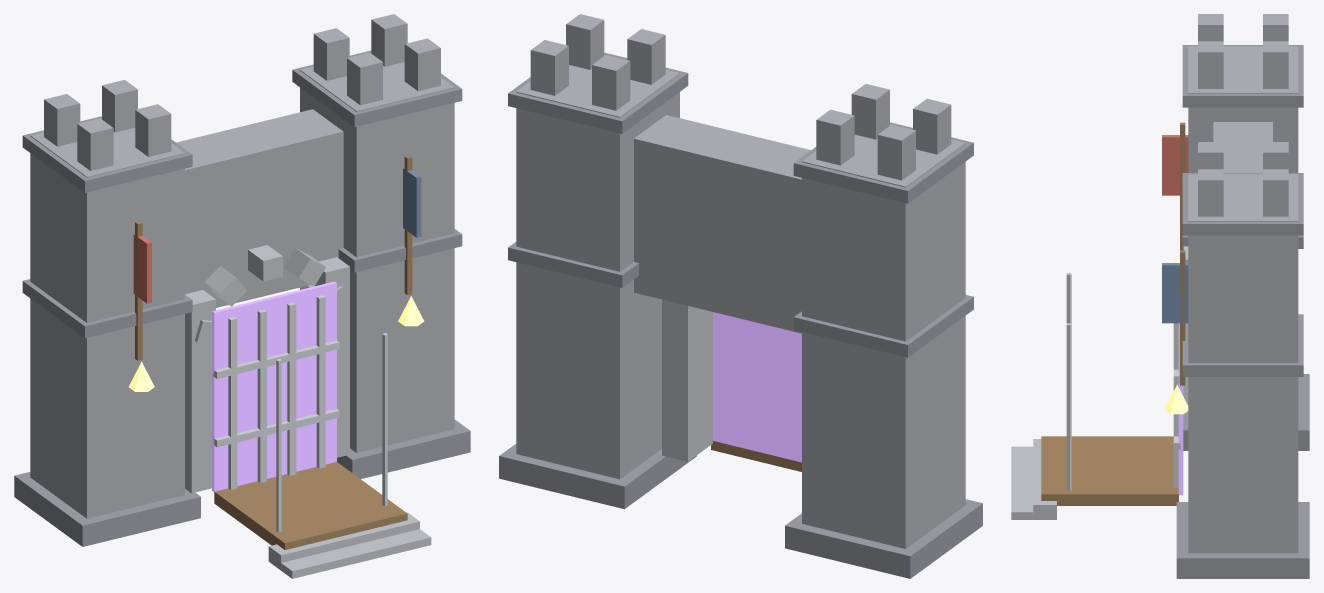
Rendered from village_gate.glb.
3 renders of one model, left to right at view 1: azimuth 30°, elevation 25°; view 2: azimuth 150°, elevation 25°; view 3: azimuth 270°, elevation 25°, orthographic. The views are drawn at different scales.
Parts seen in each view (by area): view 1: tower, tower.001, gate_wall, gate_dark, drawbridge, tower_foot, arch_pier.002, tower_foot.001, tower_band.005, tower_band.007, step.008, arch_pier.003 (+26 smaller); view 2: tower, tower.001, gate_wall, gate_dark, arch_pier.003, tower_foot, tower_foot.001, tower_band.005, tower_band.007, tower_band.004, tower_band.006, merlon.020 (+8 smaller); view 3: tower.001, drawbridge, tower, tower_foot.001, tower_band.005, tower_band.007, gate_wall, tower_band.006, step.008, banner.001, banner, tower_foot (+15 smaller).
Boxes of the visible parts, box(x1,y1,x2,y2) form: tower: box(30, 118, 184, 518); tower.001: box(300, 52, 454, 452); gate_wall: box(176, 109, 343, 307); gate_dark: box(212, 281, 336, 491); drawbridge: box(214, 462, 407, 549); tower_foot: box(14, 472, 200, 546); arch_pier.002: box(185, 290, 215, 493); tower_foot.001: box(337, 419, 470, 478); tower_band.005: box(22, 116, 192, 192); tower_band.007: box(292, 50, 462, 127); step.008: box(280, 529, 431, 578); arch_pier.003: box(315, 257, 349, 457); tower: box(802, 124, 965, 548); tower.001: box(516, 54, 679, 479); gate_wall: box(634, 115, 810, 333); gate_dark: box(713, 312, 801, 462); arch_pier.003: box(662, 299, 712, 461); tower_foot: box(785, 499, 982, 578); tower_foot.001: box(499, 444, 696, 508); tower_band.005: box(793, 122, 973, 203); tower_band.007: box(508, 52, 688, 133); tower_band.004: box(793, 295, 973, 357); tower_band.006: box(508, 242, 638, 287); merlon.020: box(816, 109, 854, 165); tower.001: box(1188, 174, 1298, 553); drawbridge: box(1041, 436, 1178, 505); tower: box(1188, 46, 1298, 172); tower_foot.001: box(1176, 502, 1309, 578); tower_band.005: box(1182, 45, 1303, 107); tower_band.007: box(1182, 173, 1303, 235); gate_wall: box(1213, 122, 1272, 172); tower_band.006: box(1182, 314, 1303, 376); step.008: box(1011, 446, 1034, 519); banner.001: box(1162, 263, 1188, 323); banner: box(1162, 135, 1188, 195); tower_foot: box(1183, 374, 1309, 450).
Bounding box in the file's own units: 4.75 × 4.69 × 3.26.
